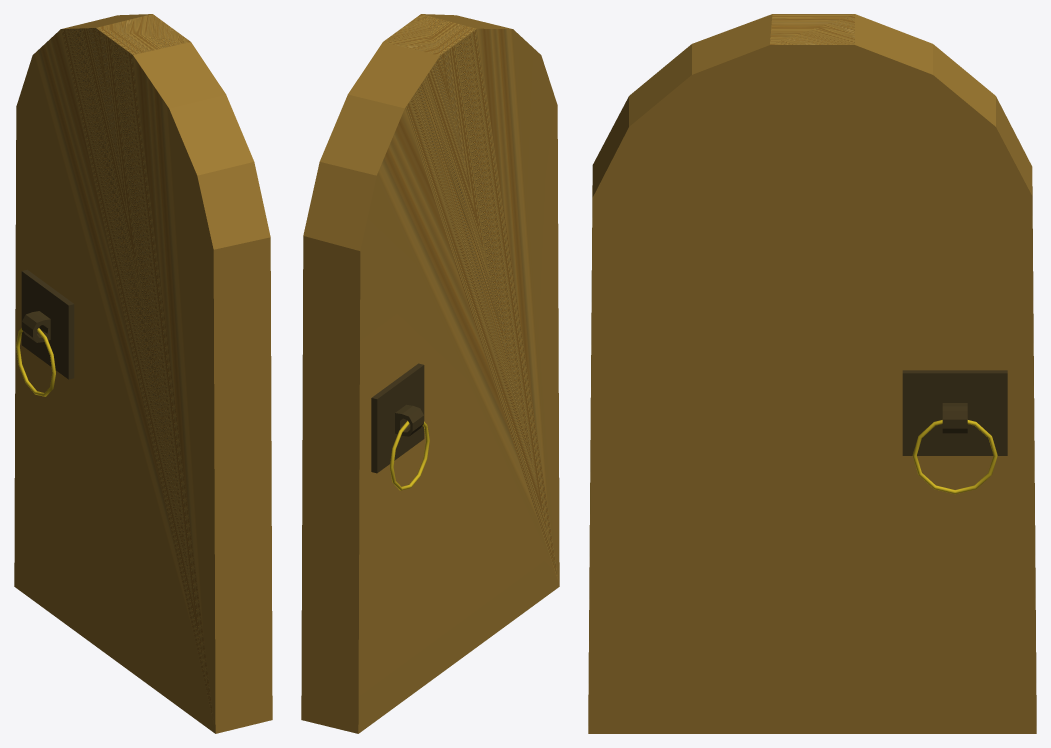
The model's file is Door.fbx.
3 views of the same model, side by side, from view 1: azimuth 30°, elevation 25°; view 2: azimuth 150°, elevation 25°; view 3: azimuth 270°, elevation 25° (orthographic). The views are drawn at different scales.
Parts seen in each view (by area): view 1: Door; view 2: Door; view 3: Door.
Boxes of the visible parts, x1=… form: Door: x1=14, y1=14, x2=272, y2=733; Door: x1=301, y1=14, x2=559, y2=733; Door: x1=588, y1=14, x2=1036, y2=733.
Size of the model in its own units: 145 by 824 by 486.
